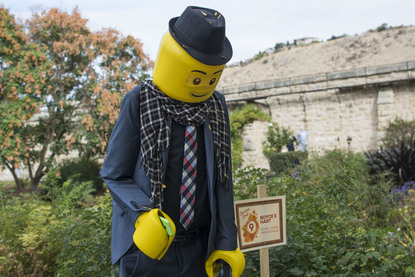person-like: (98, 3, 251, 277)
